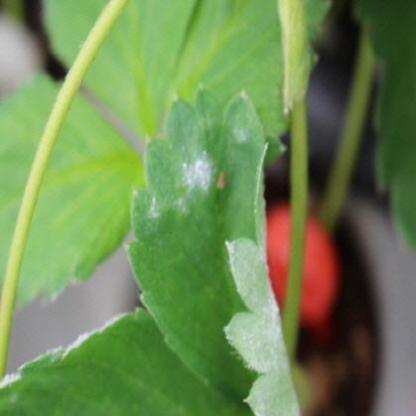Strawberry_Powdery_Mildew_Leaf: (124, 82, 301, 416), (0, 308, 241, 416)
